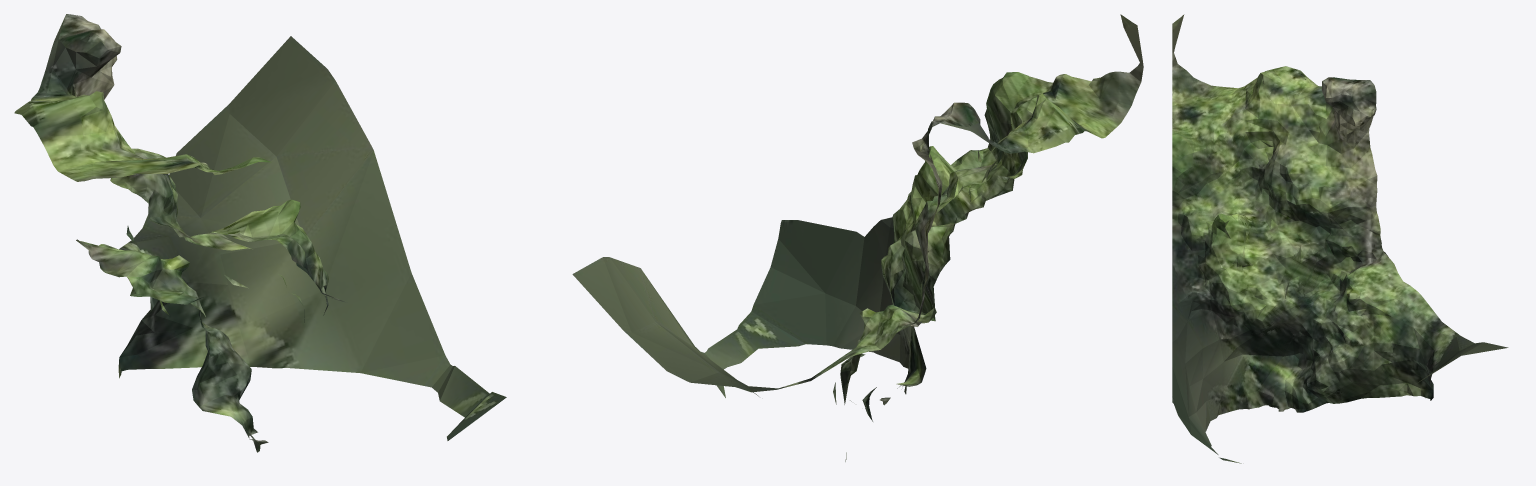
3 renders of one model, left to right at view 1: azimuth 30°, elevation 25°; view 2: azimuth 150°, elevation 25°; view 3: azimuth 270°, elevation 25°, orthographic. The views are drawn at different scales.
Bounding box in the file's own units: 26.11 × 26.11 × 26.11.
3 materials, 3 textured.
